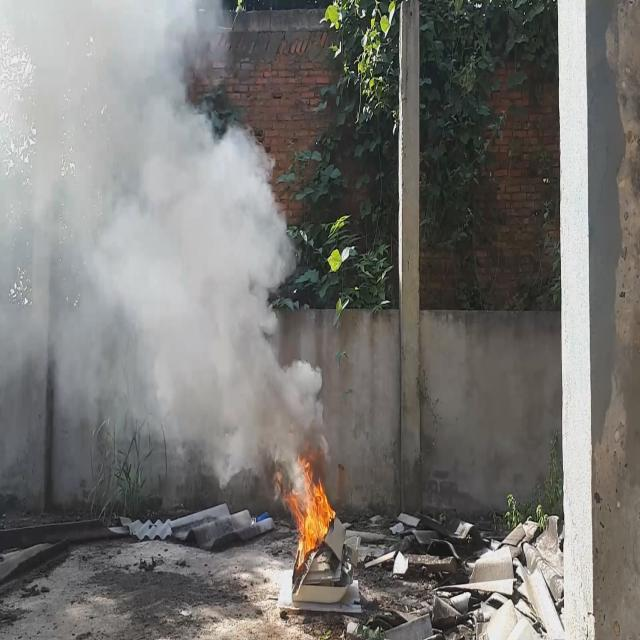Fire: (274, 446, 338, 572)
Smoke: (0, 0, 334, 504)
